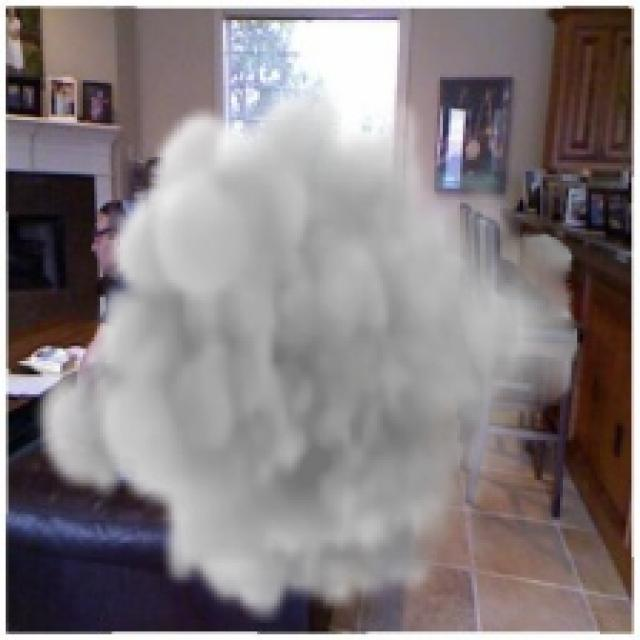smoke: (28, 77, 583, 623)
